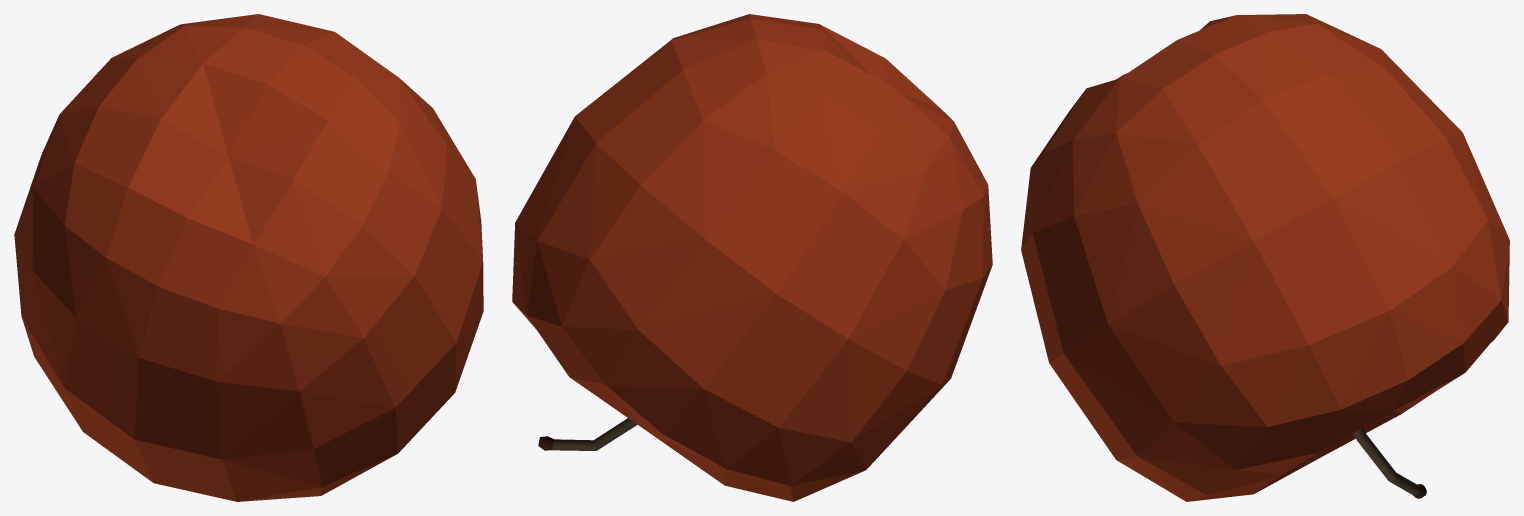
The model's file is redApple.glb.
3 renders of one model, left to right at view 1: azimuth 30°, elevation 25°; view 2: azimuth 150°, elevation 25°; view 3: azimuth 270°, elevation 25°, orthographic. The views are drawn at different scales.
Visible parts, largest first — view 1: Cube.001; view 2: Cube.001; view 3: Cube.001.
Part boxes in pixels (bbox=[...]): Cube.001: bbox=[14, 14, 483, 501]; Cube.001: bbox=[512, 14, 992, 501]; Cube.001: bbox=[1021, 14, 1509, 501].
Size of the model in its own units: 3.24 by 3.36 by 3.28.
